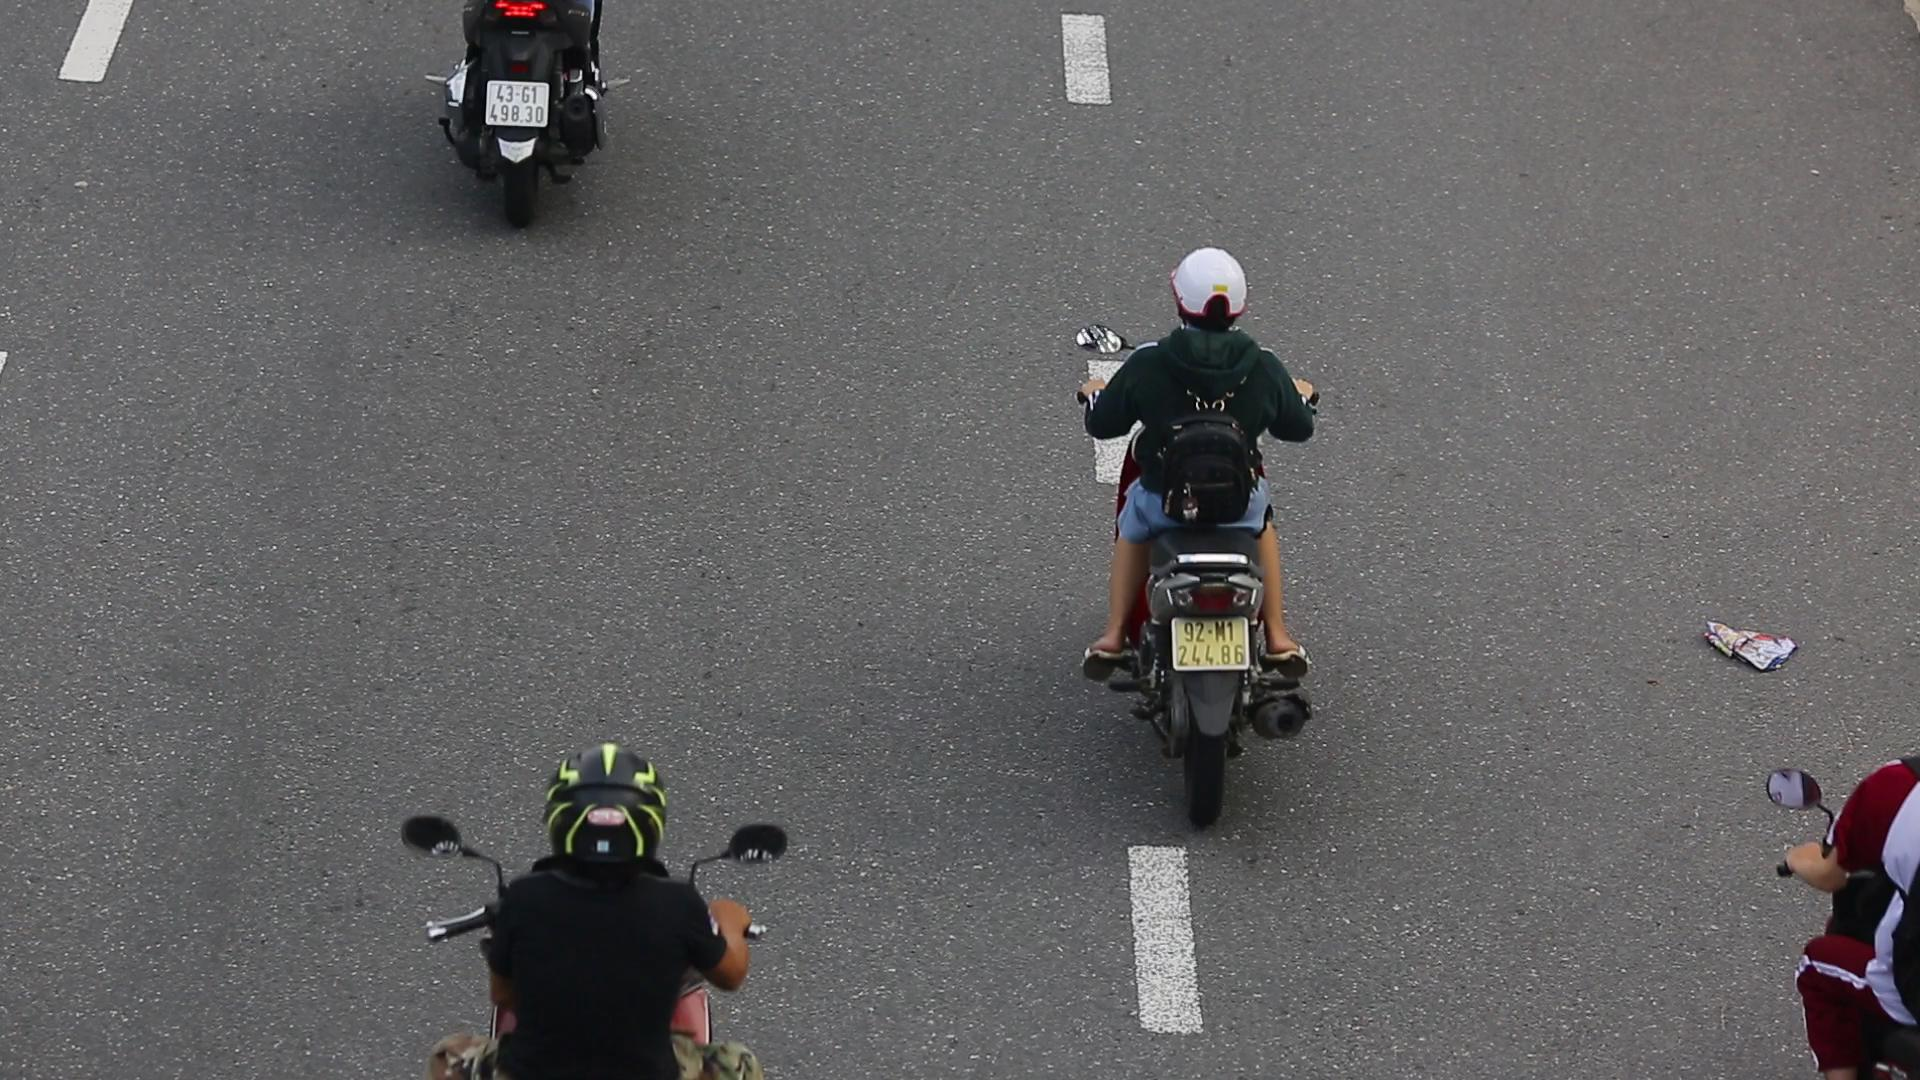motobike: (1035, 231, 1329, 847)
